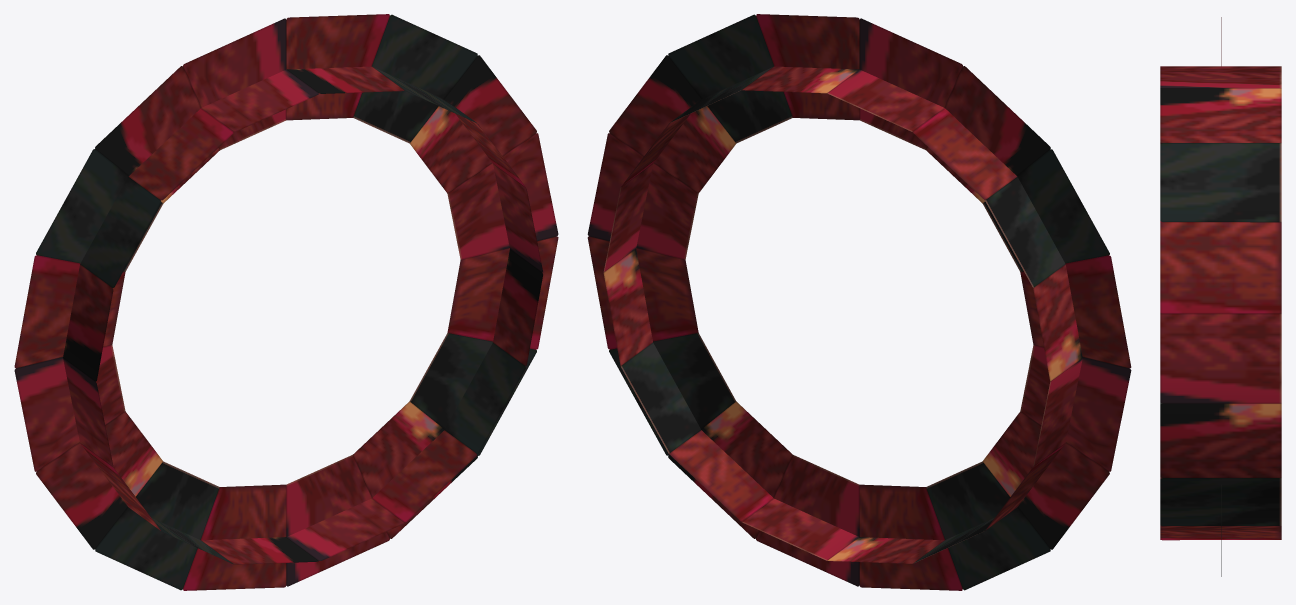
The picture shows the model from 3 angles, left to right: view 1: azimuth 30°, elevation 25°; view 2: azimuth 150°, elevation 25°; view 3: azimuth 270°, elevation 25°; orthographic projection. The views are drawn at different scales.
Visible parts, largest first — view 1: T1L9M005_25; view 2: T1L9M005_25; view 3: T1L9M005_25.
Part boxes in pixels (x1,y1,x2,y2): T1L9M005_25: (14,14,558,590); T1L9M005_25: (587,14,1131,590); T1L9M005_25: (1160,17,1281,576).
Size of the model in its own units: 2.83 by 2.83 by 0.5957.
